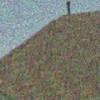chimneys: (66, 1, 72, 16)
